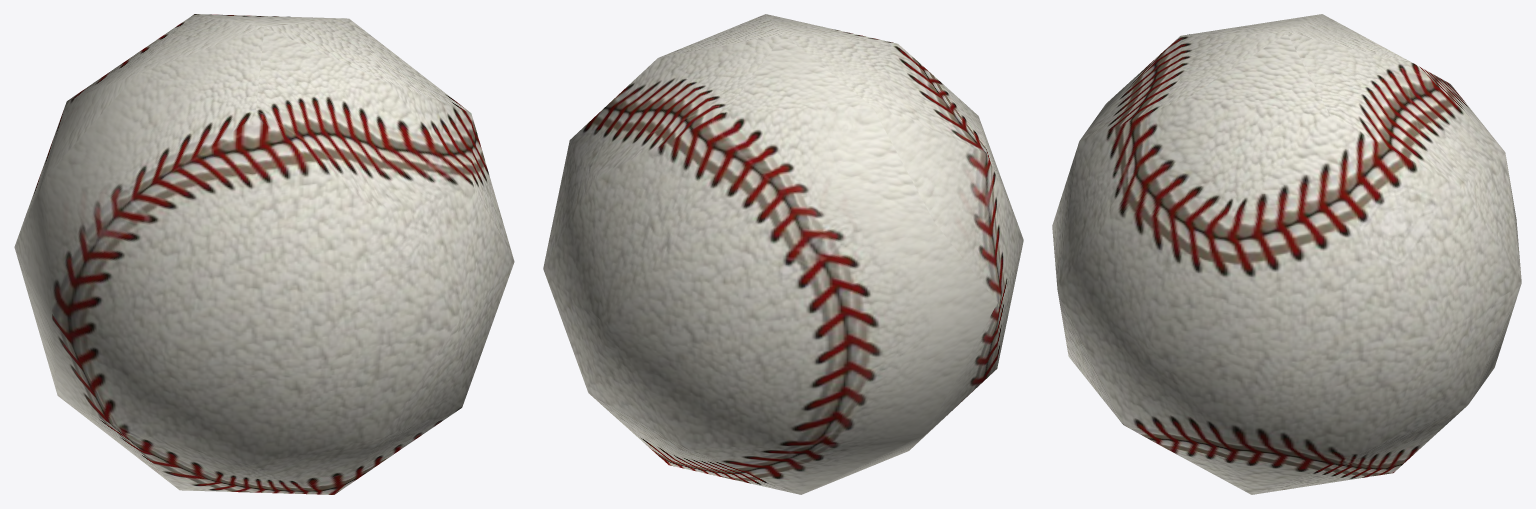
Rendered from bola de baseball.fbx.
The picture shows the model from 3 angles, left to right: view 1: azimuth 30°, elevation 25°; view 2: azimuth 150°, elevation 25°; view 3: azimuth 270°, elevation 25°; orthographic projection. The views are drawn at different scales.
Visible parts, largest first — view 1: GeoSphere001; view 2: GeoSphere001; view 3: GeoSphere001.
Part boxes in pixels (x1=…): GeoSphere001: x1=14, y1=14, x2=514, y2=494; GeoSphere001: x1=543, y1=14, x2=1023, y2=494; GeoSphere001: x1=1052, y1=14, x2=1521, y2=494.
Size of the model in its own units: 20.66 by 20.68 by 19.87.
